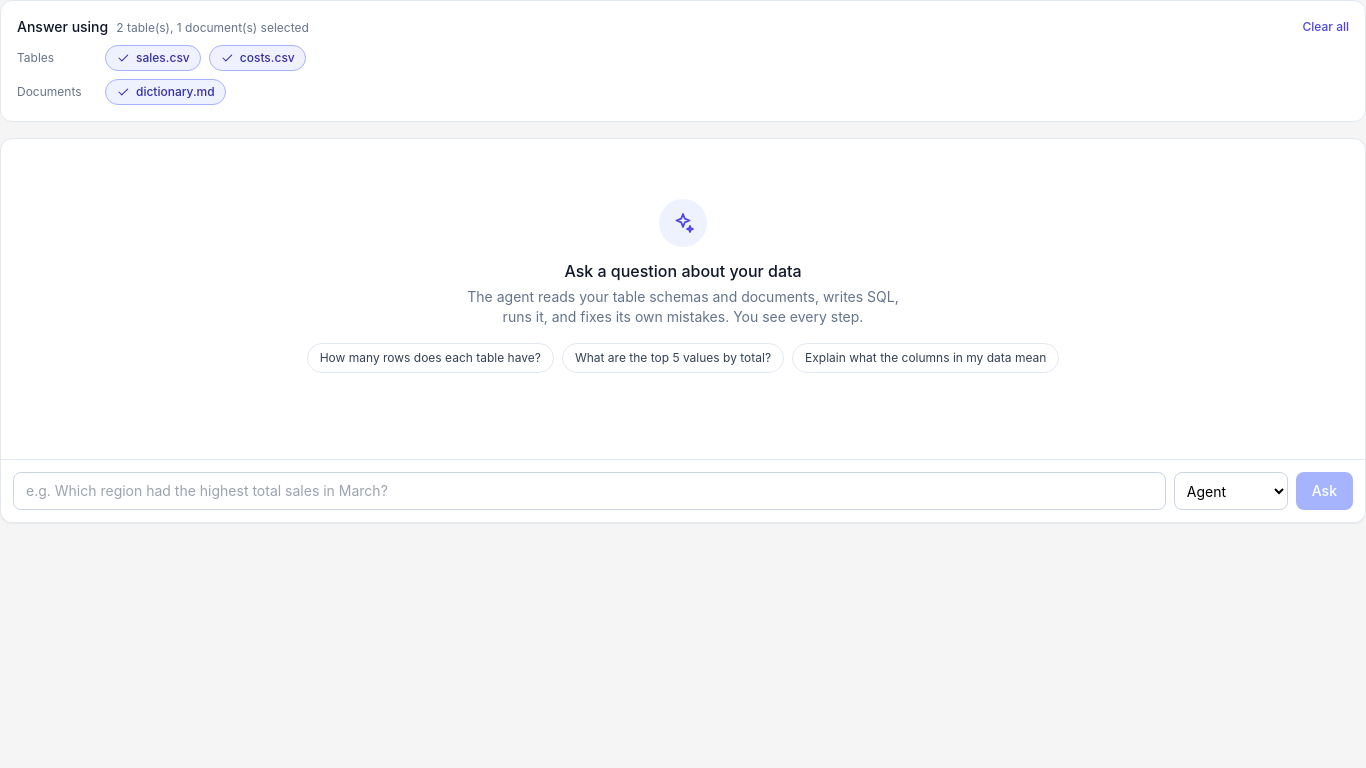
Test case: disables the question box when nothing is selected
This screenshot has width=1366, height=768.
Step 1. Click the button "Clear all" → (1326, 27), box top-left (1302, 19), bottom-right (1349, 35)
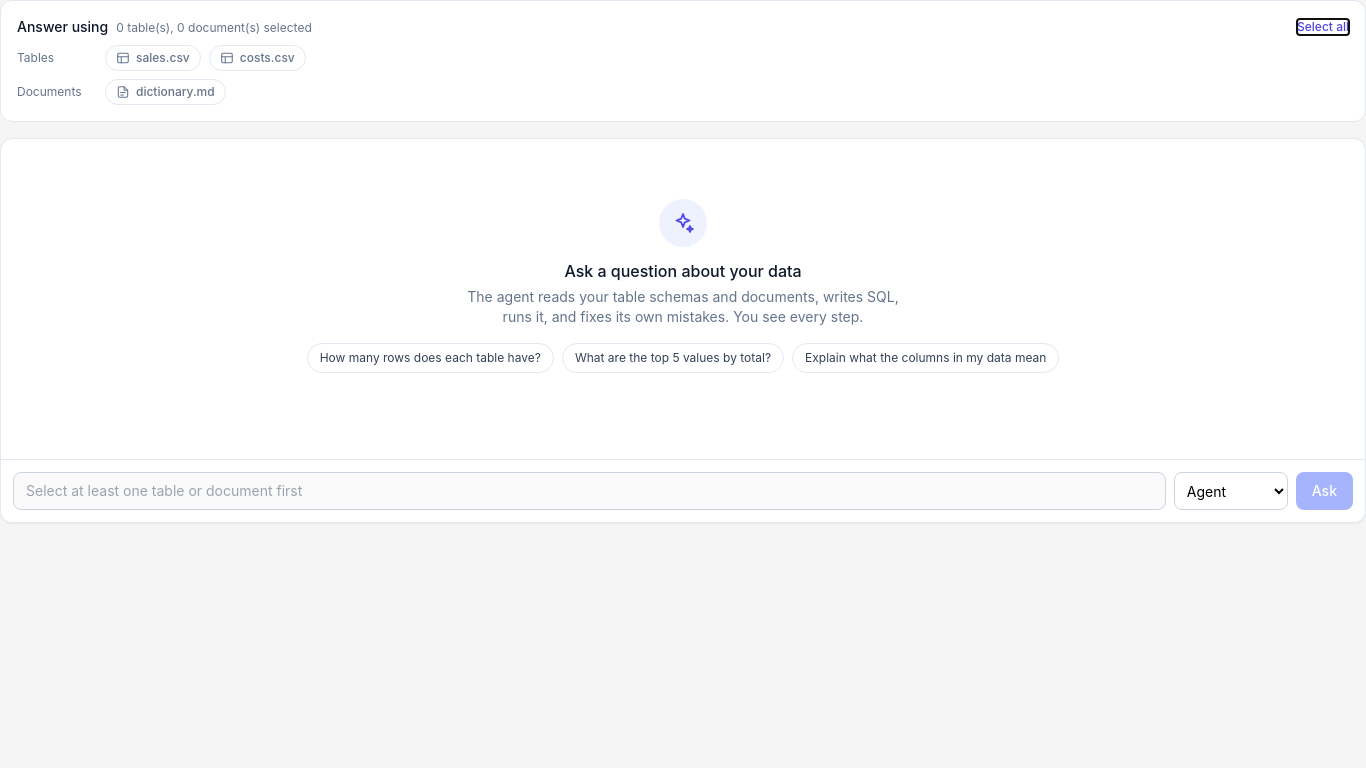
Check: the field named "Question" is disabled, box top-left (13, 472), bottom-right (1166, 510)
